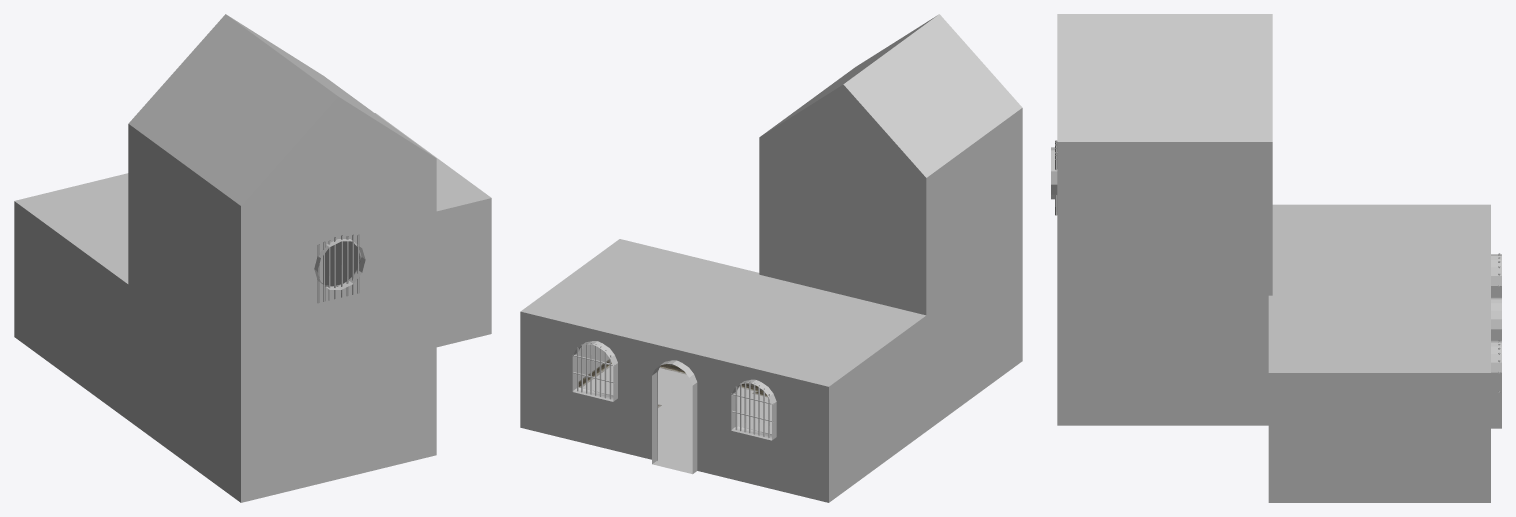
File: Alchemist_Room.fbx
3 views of the same model, side by side, from view 1: azimuth 30°, elevation 25°; view 2: azimuth 150°, elevation 25°; view 3: azimuth 270°, elevation 25° (orthographic). The views are drawn at different scales.
Visible parts, largest first — view 1: Plane.005, Plane.008, Plane.006; view 2: Plane.005, Plane.002, Plane.008; view 3: Plane.005, Plane.002.
Boxes of the visible parts, box(x1,y1,x2,y2) form: Plane.005: box(14, 14, 491, 502); Plane.008: box(317, 234, 361, 303); Plane.006: box(315, 239, 364, 288); Plane.005: box(520, 14, 1022, 502); Plane.002: box(573, 341, 776, 474); Plane.008: box(572, 343, 773, 460); Plane.005: box(1051, 14, 1501, 502); Plane.002: box(1491, 254, 1501, 428).
Size of the model in its own units: 1415 by 1434 by 1601.
